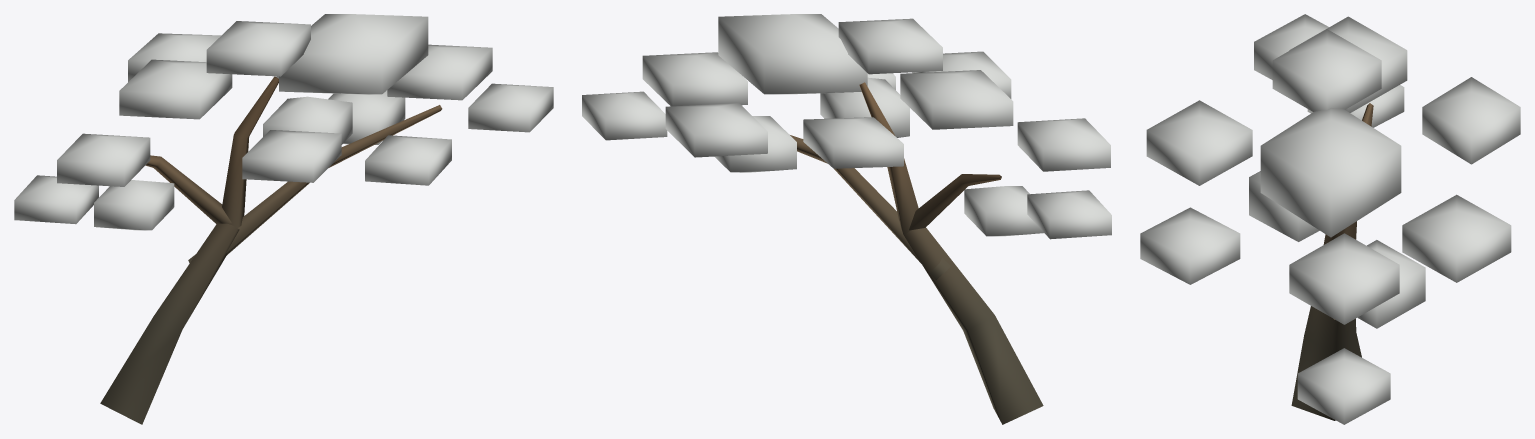
The picture shows the model from 3 angles, left to right: view 1: azimuth 30°, elevation 25°; view 2: azimuth 150°, elevation 25°; view 3: azimuth 270°, elevation 25°; orthographic projection. The views are drawn at different scales.
Parts seen in each view (by area): view 1: crown, trunk; view 2: crown, trunk; view 3: crown, trunk.
Part boxes in pixels (box(x1,y1,x2,y2)): crown: box(14, 14, 553, 230); trunk: box(100, 76, 442, 424); crown: box(582, 14, 1111, 239); trunk: box(790, 82, 1043, 424); crown: box(1140, 14, 1520, 424); trunk: box(1291, 103, 1373, 420).
Size of the model in its own units: 11.61 by 7.43 by 5.83.
